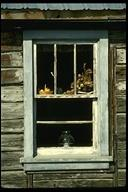window: (20, 25, 115, 175)
